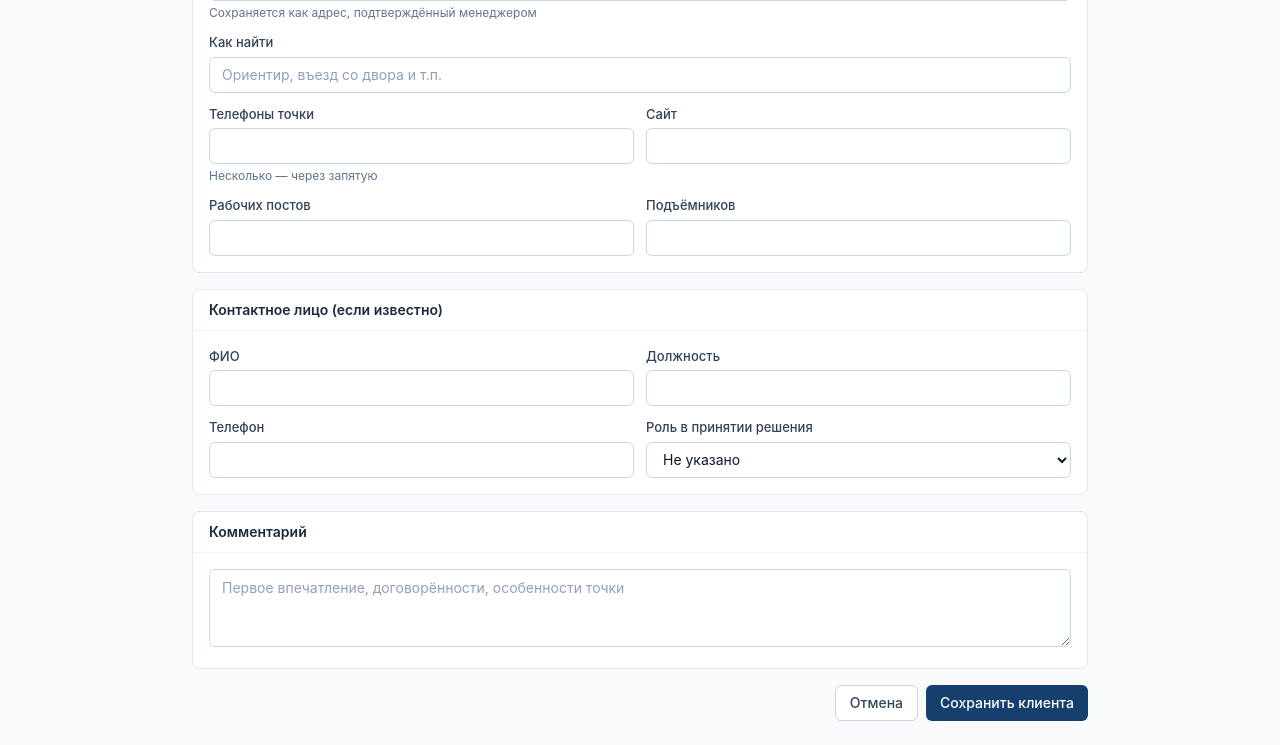
it: Форма нового клиента › не отправляет форму без названия и показывает понятную ошибку
(page scrolled)
What coordinates should you click on to do the following:
click the button "Сохранить клиента"
I would click on:
 (1007, 702)
Its box is [926,684,1088,720].
(page scrolled)
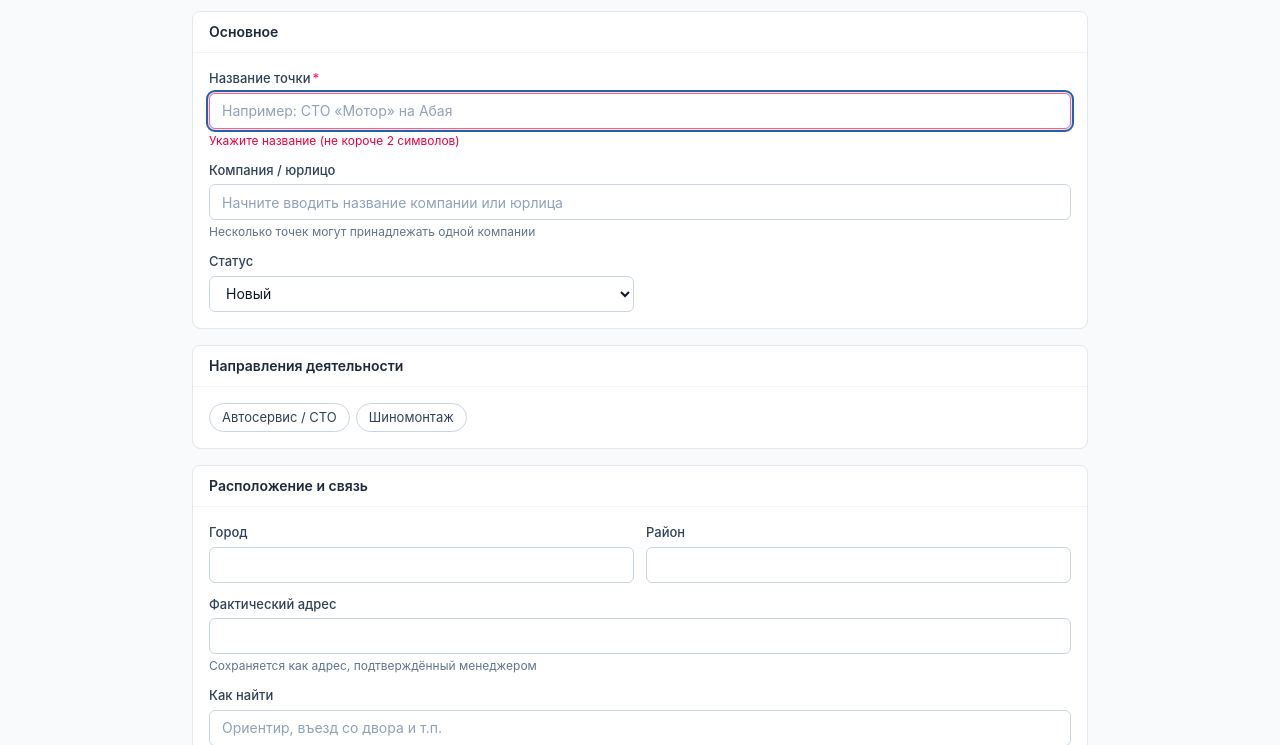
Result: the text "Укажите название (не короче 2 символов)" is shown at [209,132,460,148]
